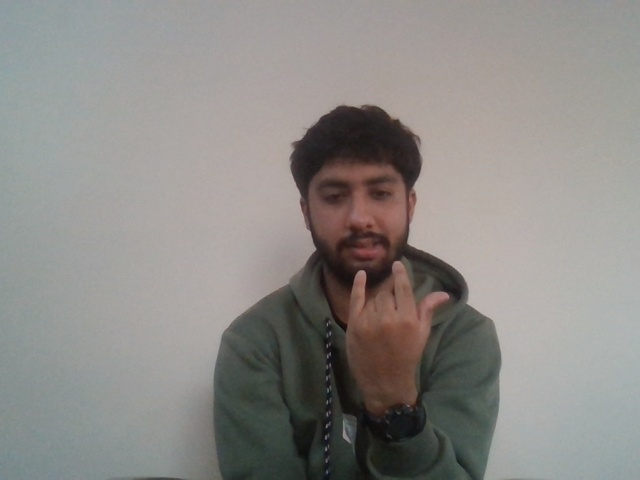IloveYou: (339, 258, 455, 370)
